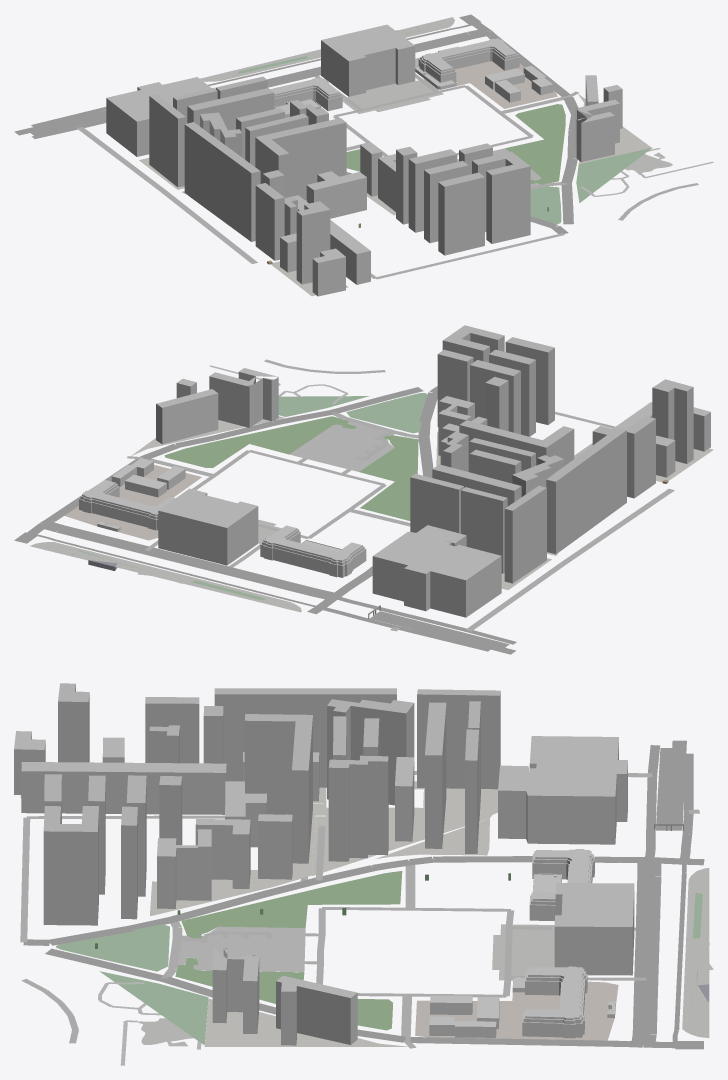
The picture shows the model from 3 angles, top to bottom: view 1: azimuth 30°, elevation 25°; view 2: azimuth 150°, elevation 25°; view 3: azimuth 270°, elevation 25°; orthographic projection. The views are drawn at different scales.
Bounding box in the file's own units: 561 × 81.57 × 508.
